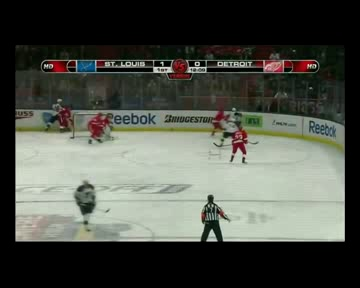normal: (208, 105, 260, 167), (192, 193, 233, 239), (71, 176, 102, 228)
